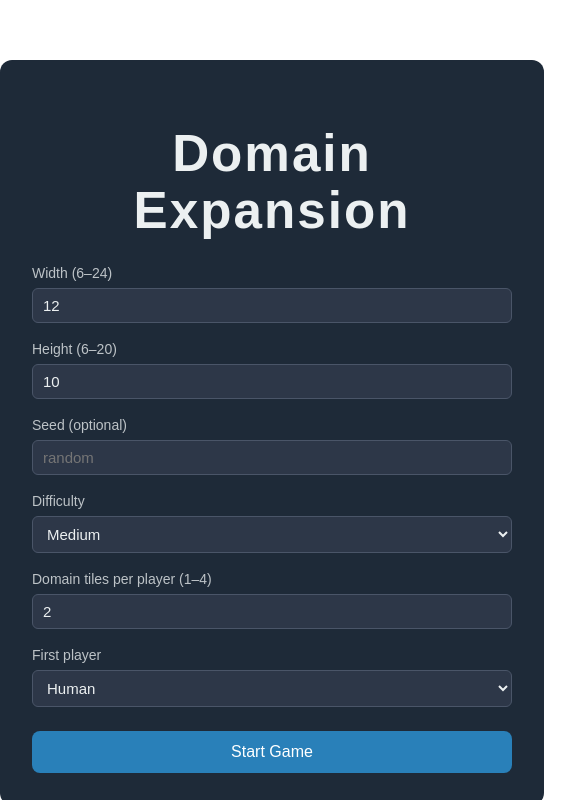
Seed copy-to-clipboard › copy seed button is present in the HUD
The image size is (561, 800).
Click the button with test id "btn-start" at [272, 752], box left=32, top=731, right=512, bottom=773
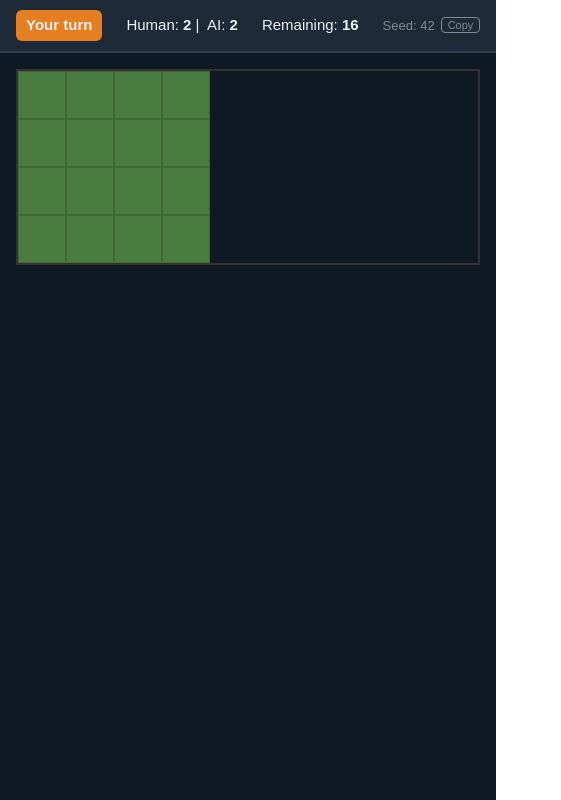
expect the element with test id "board" is shown: met, box left=16, top=68, right=480, bottom=264
expect the button with test id "btn-copy-seed" is shown: met, box left=441, top=17, right=480, bottom=33
